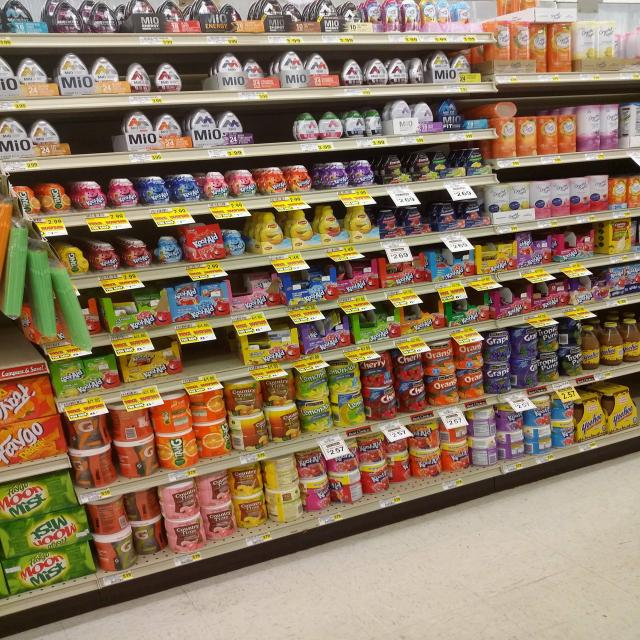void: (188, 338, 240, 388), (65, 110, 94, 168), (0, 332, 34, 376), (187, 48, 214, 101), (97, 110, 122, 164), (251, 105, 271, 154), (273, 101, 290, 155)
